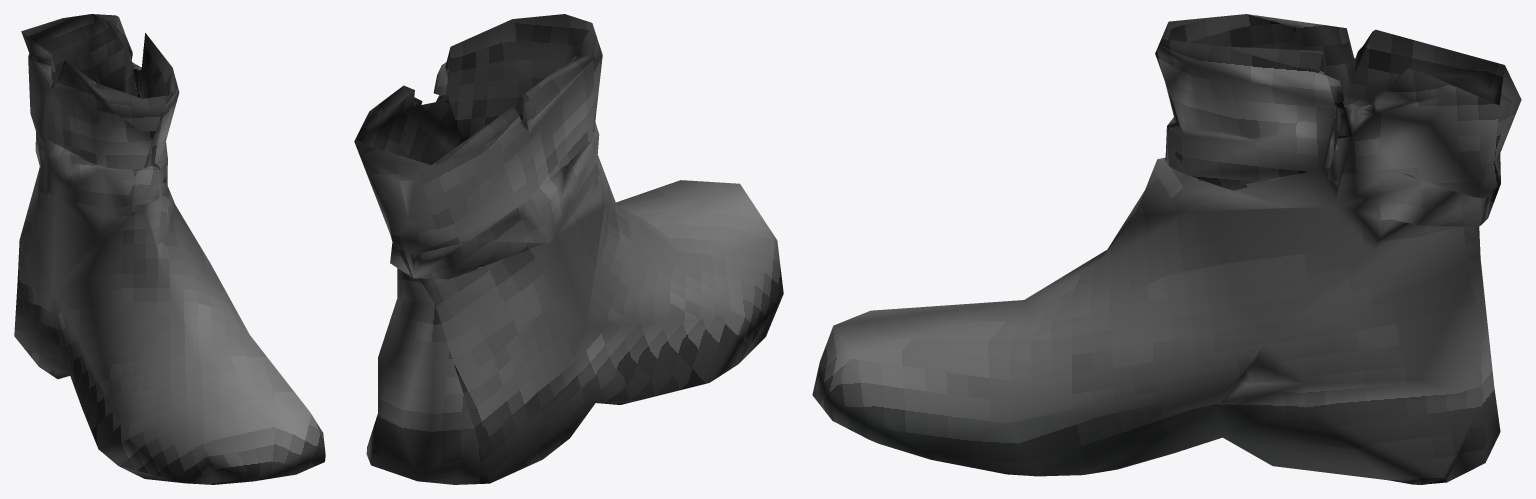
Rendered from Womens_Teva_Capistrano_Bootie-low.glb.
The picture shows the model from 3 angles, left to right: view 1: azimuth 30°, elevation 25°; view 2: azimuth 150°, elevation 25°; view 3: azimuth 270°, elevation 25°; orthographic projection. The views are drawn at different scales.
Visible parts, largest first — view 1: Womens_Teva_Capistrano_Bootie; view 2: Womens_Teva_Capistrano_Bootie; view 3: Womens_Teva_Capistrano_Bootie.
Part boxes in pixels (left/top/right/bottom): Womens_Teva_Capistrano_Bootie: left=14, top=14, right=325, bottom=484; Womens_Teva_Capistrano_Bootie: left=354, top=14, right=783, bottom=484; Womens_Teva_Capistrano_Bootie: left=812, top=14, right=1521, bottom=484.
Size of the model in its own units: 0.1007 by 0.1876 by 0.2887.
1 material, 1 textured.
